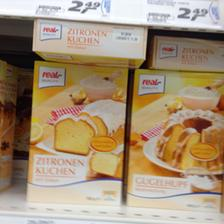Kuchen: (24, 57, 128, 210), (127, 66, 223, 214)
